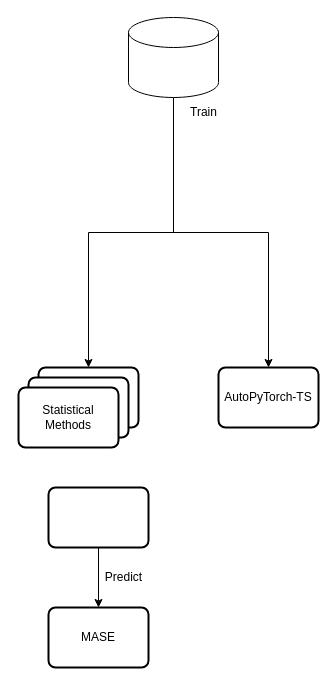
Image size: 336x686. Some labels were removed from this diagram. The shapes that lost their labels are listed below. From the top down, each one's box as (x1, y1, x2, y2) in pixels, then its label:
(128, 16, 218, 98): Data
(47, 486, 149, 548): Ensemble
